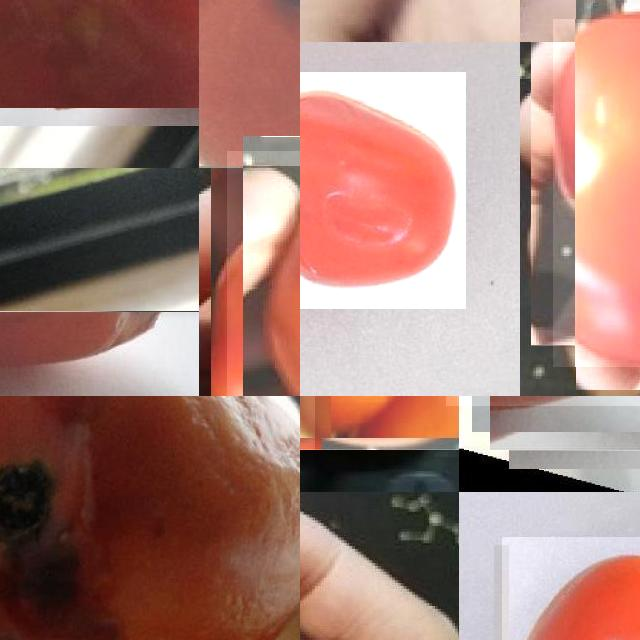0: (553, 19, 640, 367)
1: (300, 72, 465, 309)
Fresh Tomato: (227, 151, 300, 396), (501, 537, 640, 640)
Rotten Tomato: (0, 396, 300, 640), (0, 0, 207, 117), (0, 311, 199, 396)
